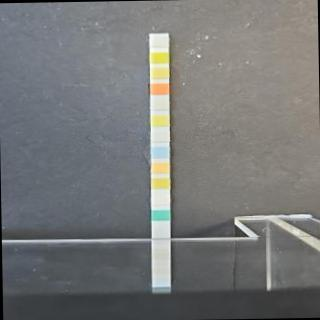mark: (151, 192, 169, 205), (150, 160, 168, 173), (150, 97, 168, 110), (150, 82, 168, 95), (150, 66, 168, 79), (150, 51, 168, 64), (152, 176, 170, 188), (150, 113, 168, 125), (150, 36, 168, 48), (152, 208, 169, 220), (152, 146, 168, 158), (152, 129, 168, 141)
